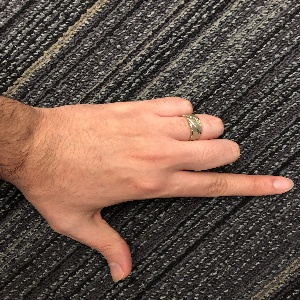hand: (43, 97, 292, 281)
